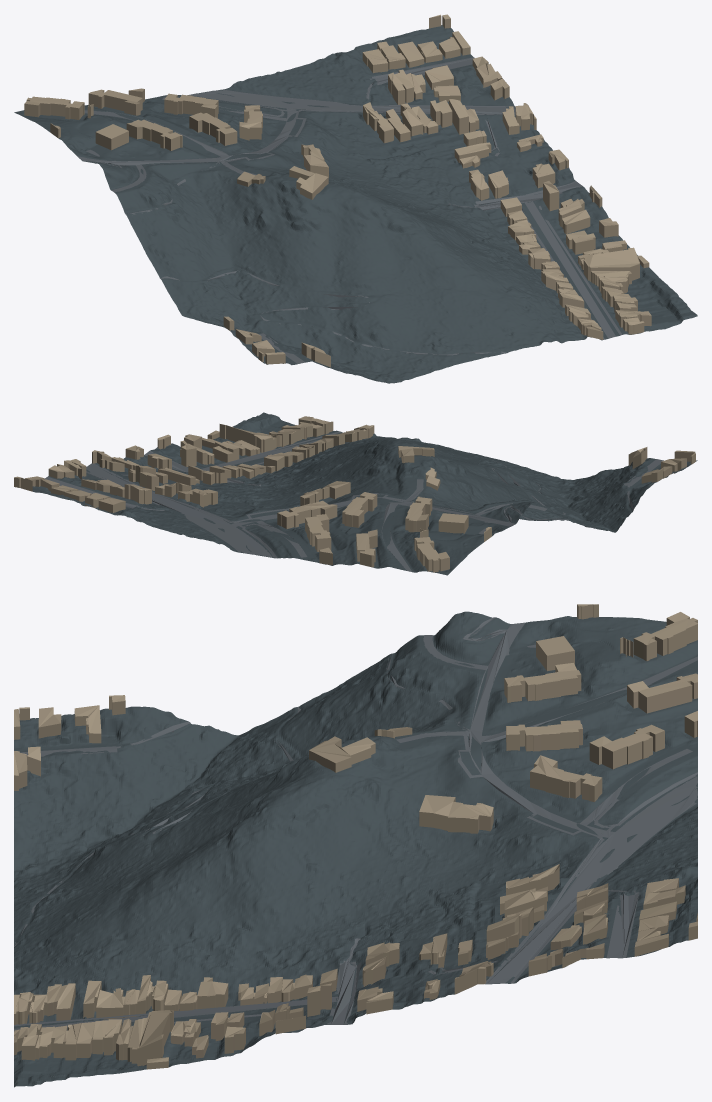
The model's file is epsg26910-1427-10883.lod0.glb.
The picture shows the model from 3 angles, top to bottom: view 1: azimuth 30°, elevation 25°; view 2: azimuth 150°, elevation 25°; view 3: azimuth 270°, elevation 25°; orthographic projection. The views are drawn at different scales.
Visible parts, largest first — view 1: epsg26910-1427-10883-lod0; view 2: epsg26910-1427-10883-lod0; view 3: epsg26910-1427-10883-lod0.
Part boxes in pixels (x1,y1,x2,y2): epsg26910-1427-10883-lod0: (14,14,697,383); epsg26910-1427-10883-lod0: (14,412,697,575); epsg26910-1427-10883-lod0: (14,604,697,1087).
Bounding box in the file's own units: 384 × 125 × 384.
